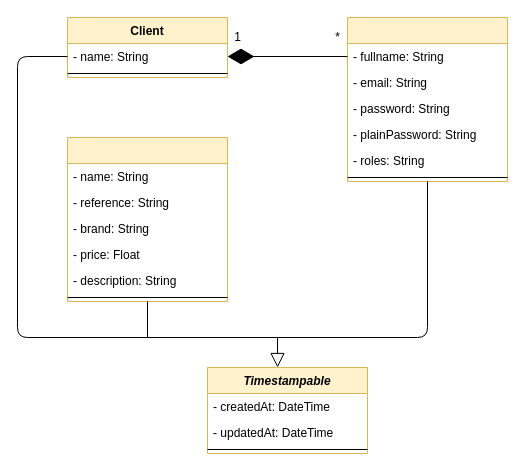
The diagram is 525 pixels wide and 471 high, and some of its shapes have lost their labels. The box of each missing label's shape, as (x1, y1, x2, y2) in pixels:
Telephone: (66, 136, 228, 302)
User: (346, 16, 508, 182)
